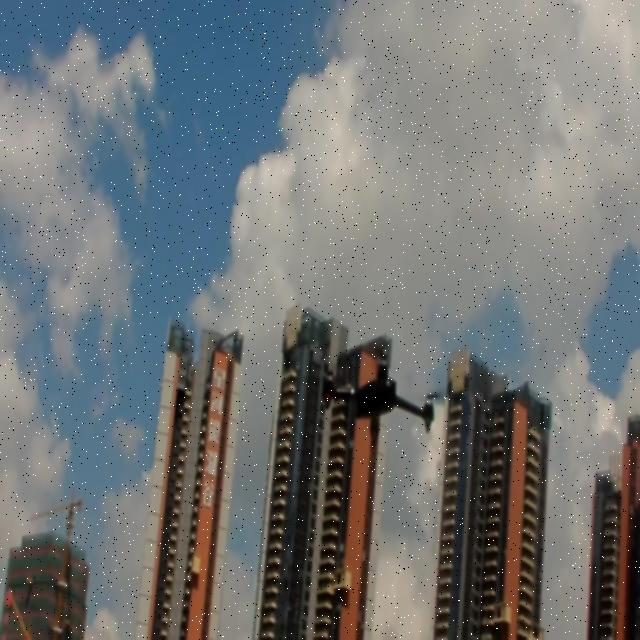UAV: (321, 346, 439, 453)
